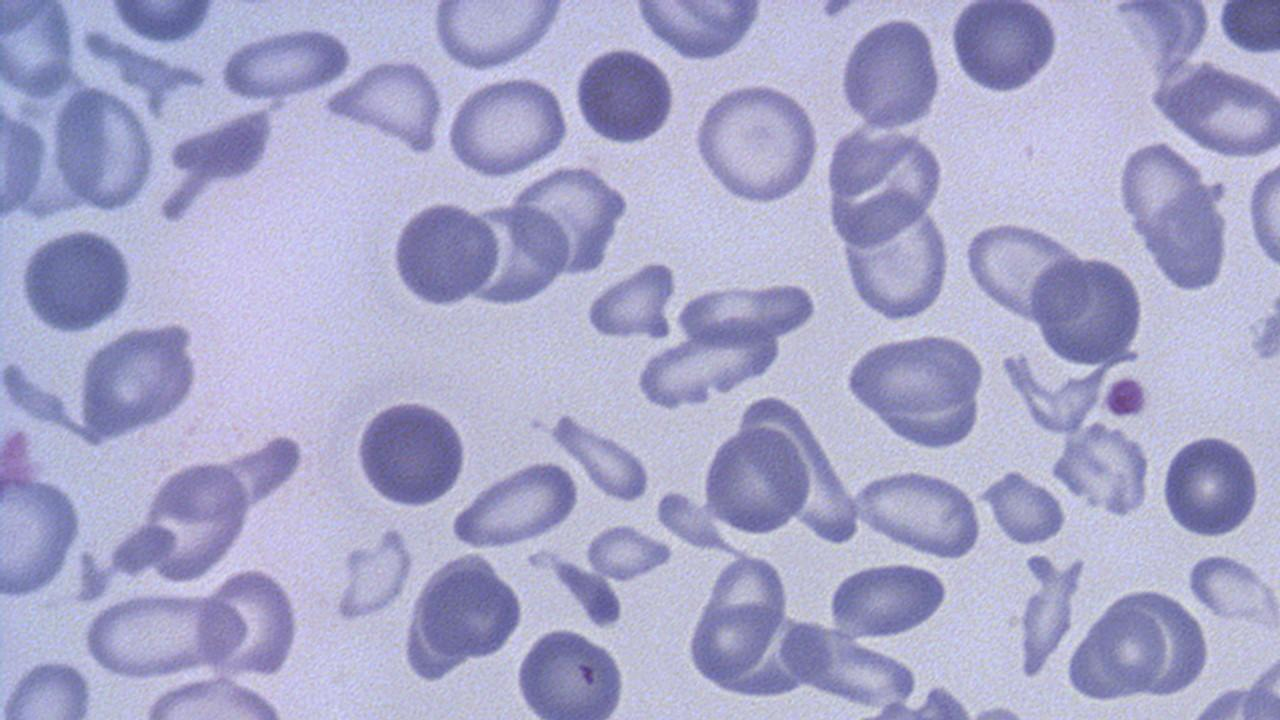RBC: (840, 330, 990, 450), (690, 80, 822, 207), (822, 120, 949, 247), (836, 190, 955, 325), (140, 457, 253, 586), (80, 591, 242, 680), (77, 323, 201, 439), (0, 436, 85, 603), (509, 164, 629, 280), (352, 394, 471, 510), (1029, 252, 1147, 368), (51, 85, 156, 215), (443, 74, 572, 178), (962, 218, 1084, 327), (18, 225, 138, 335), (457, 198, 574, 310), (194, 564, 304, 683), (387, 196, 500, 310), (700, 423, 812, 538), (411, 552, 524, 664), (448, 458, 580, 551), (838, 15, 942, 133), (323, 56, 448, 154), (850, 466, 984, 557), (1157, 430, 1265, 540), (571, 41, 681, 145), (512, 624, 632, 718), (1161, 63, 1279, 158), (947, 2, 1062, 97), (218, 24, 353, 102), (826, 559, 954, 640), (670, 280, 816, 350), (1116, 138, 1210, 246), (1143, 182, 1231, 296), (430, 2, 565, 69), (631, 0, 762, 63), (581, 261, 677, 344), (1085, 604, 1169, 698), (703, 552, 790, 642), (0, 0, 78, 100), (137, 674, 296, 718), (1185, 551, 1277, 625), (986, 467, 1069, 547), (0, 653, 98, 716), (583, 522, 674, 584), (0, 106, 48, 222), (105, 1, 221, 44), (1244, 154, 1280, 274), (1216, 1, 1280, 60)
